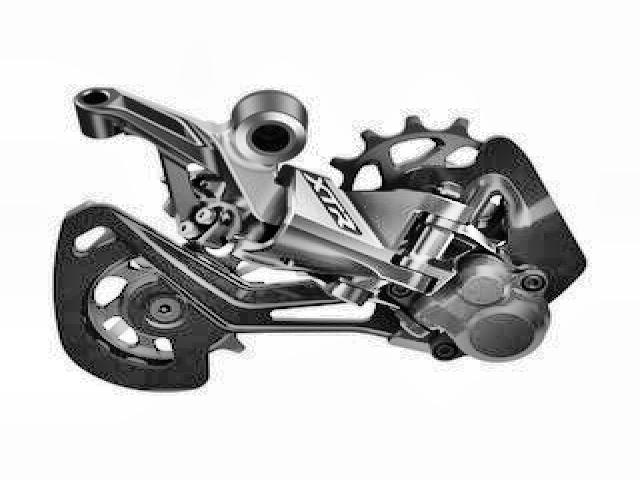rear_derailleur: (48, 80, 593, 394)
